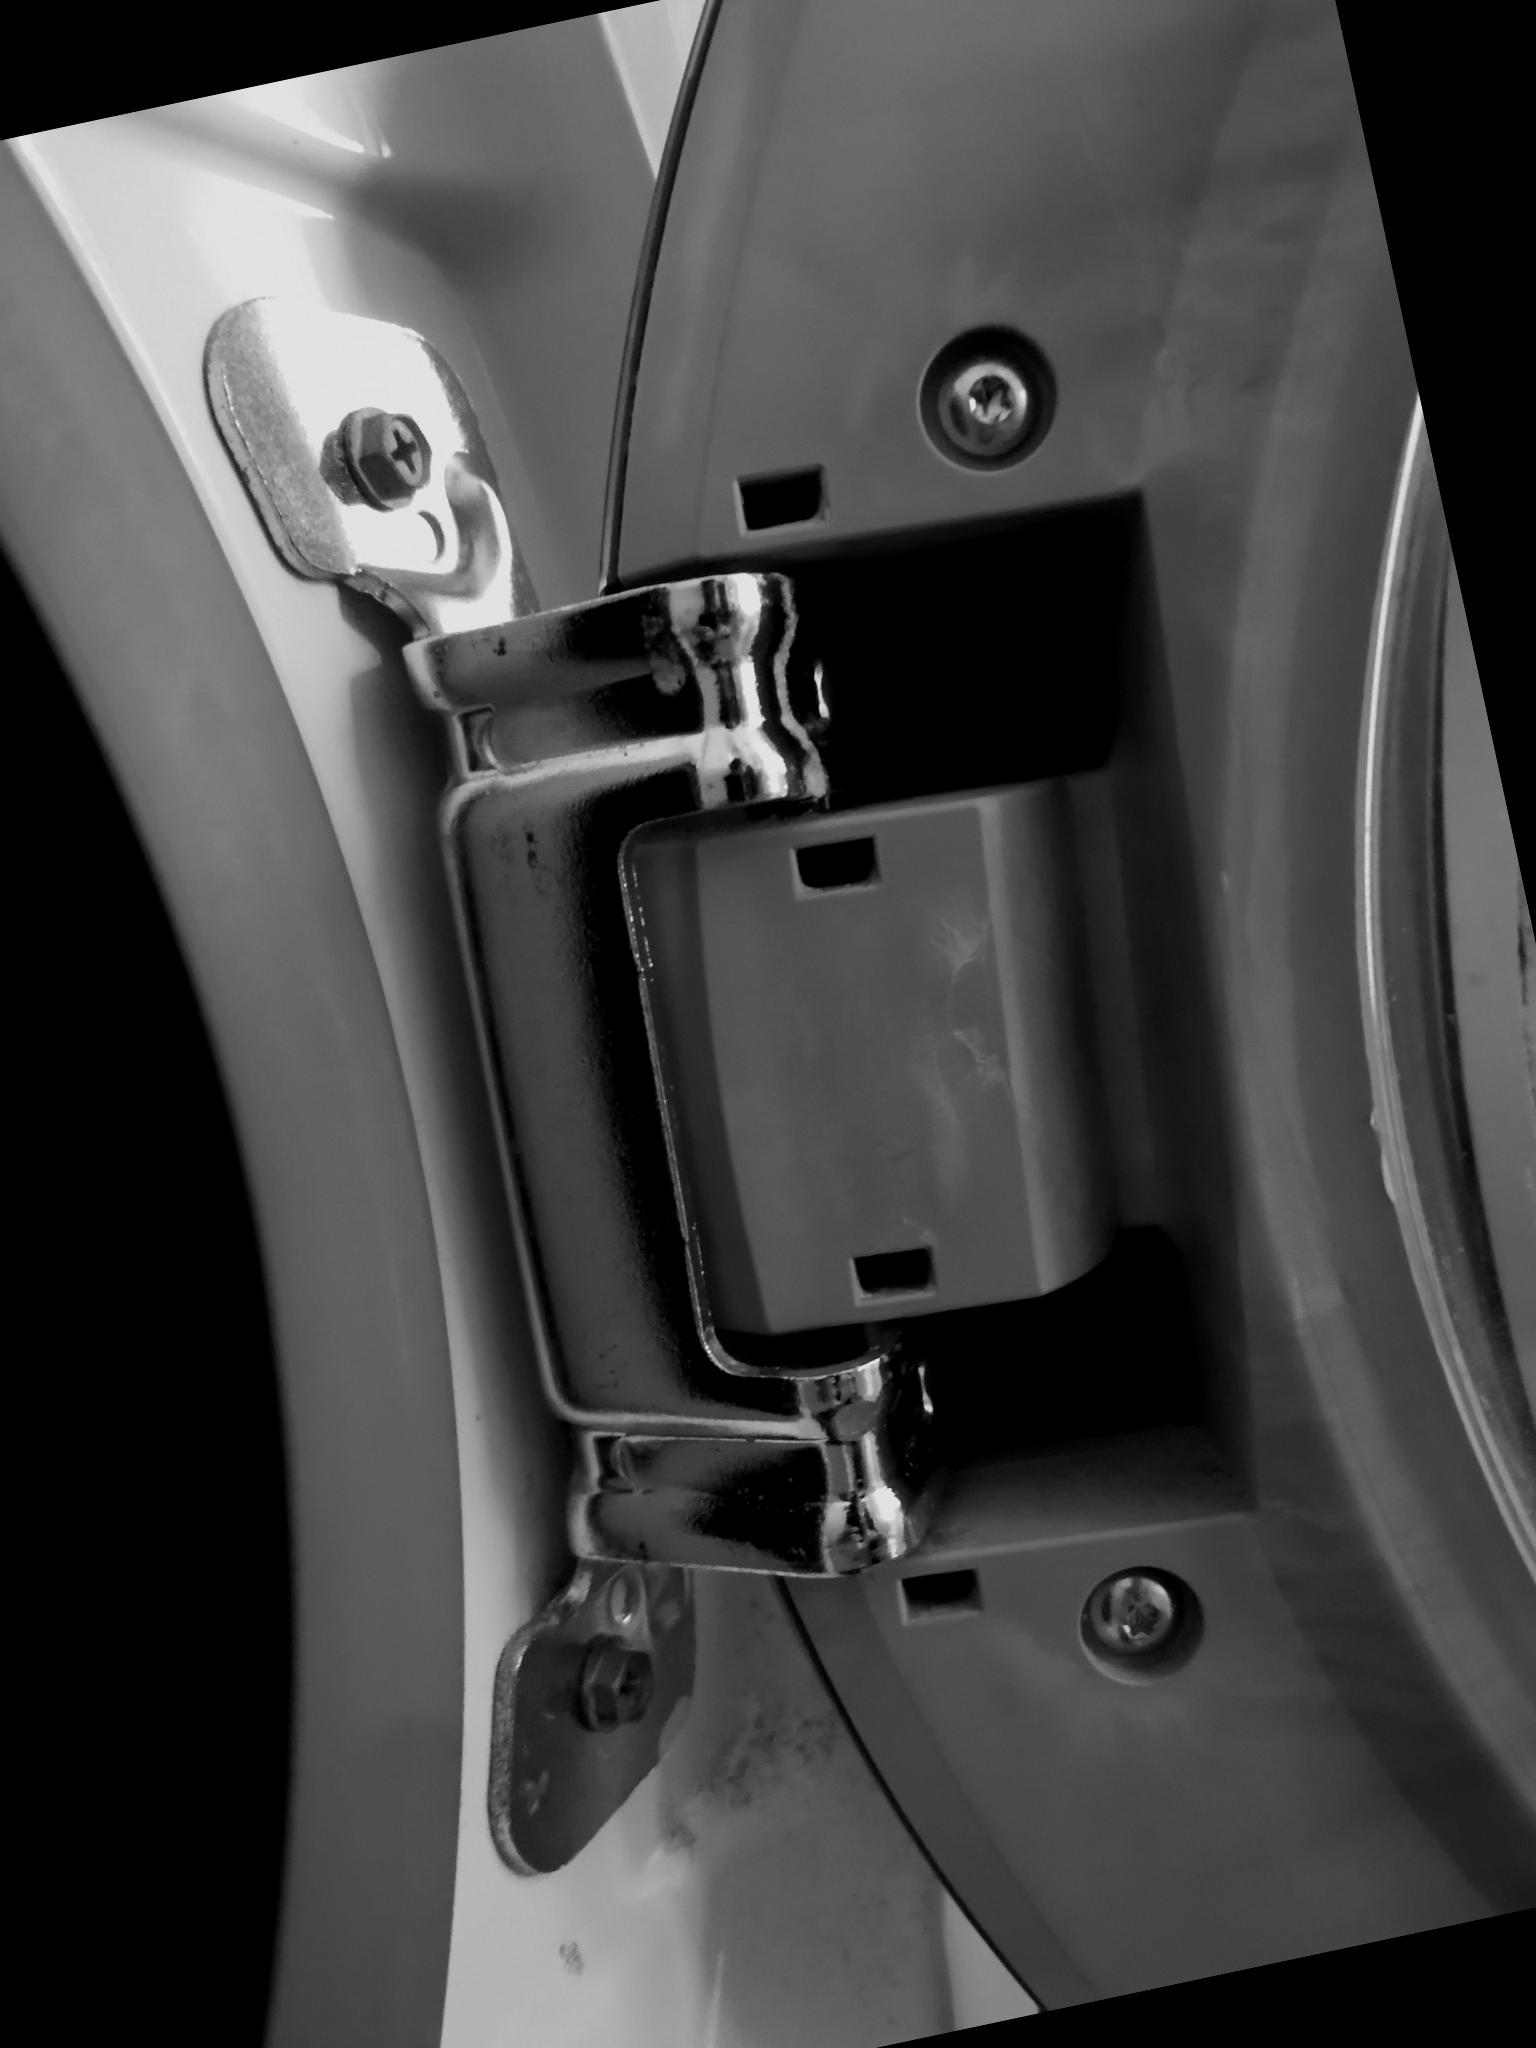screw: (912, 332, 1065, 479), (1073, 1558, 1199, 1672)
